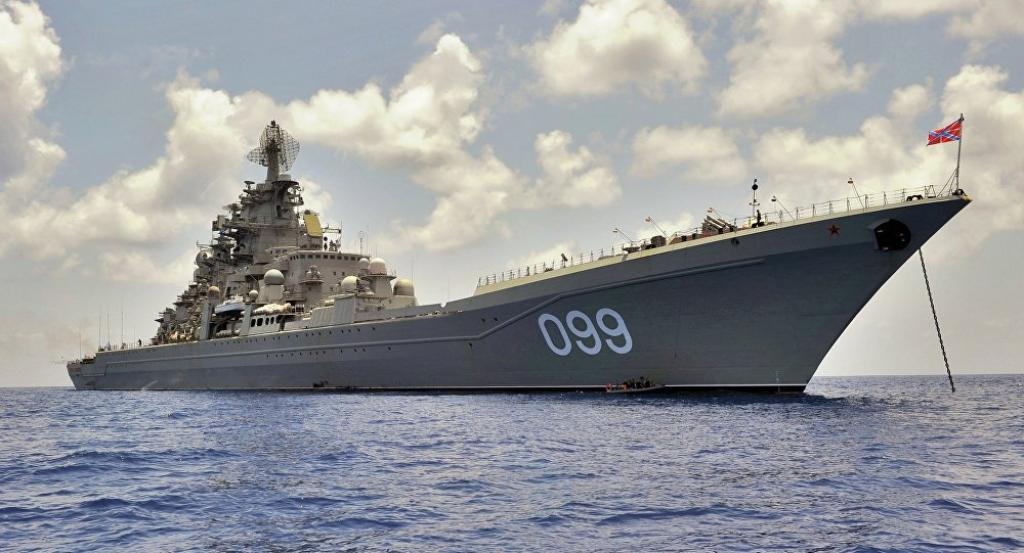Warship: (64, 120, 986, 398)
